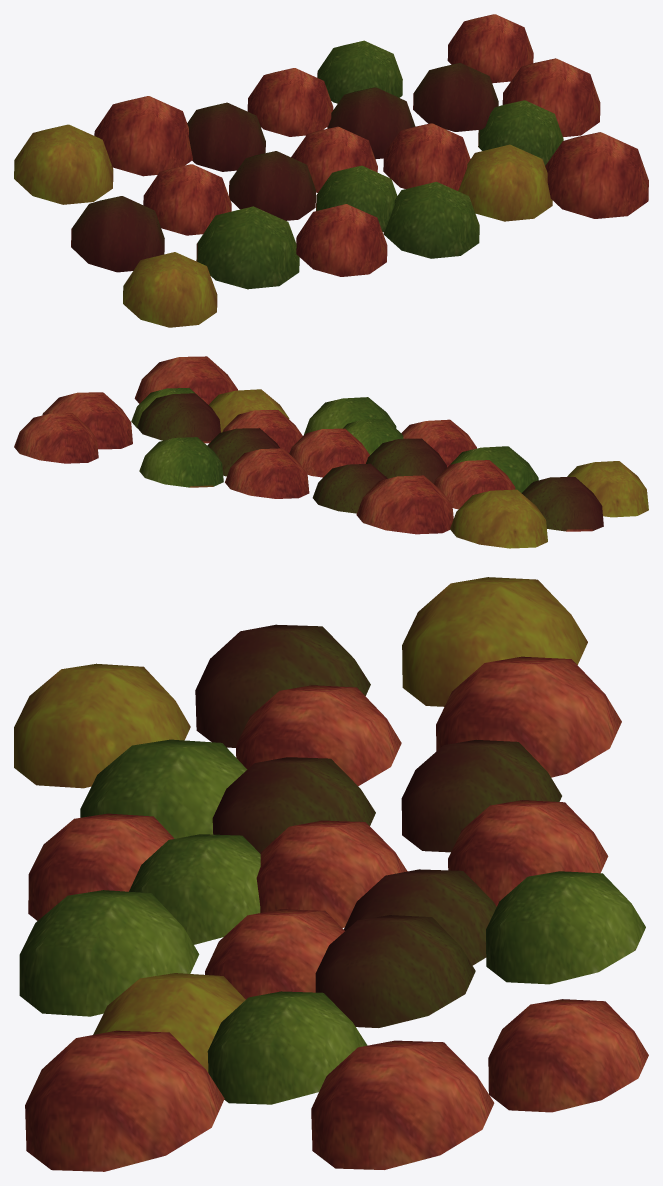
Rendered from fanasty_mod_fruit.fbx.
3 renders of one model, top to bottom at view 1: azimuth 30°, elevation 25°; view 2: azimuth 150°, elevation 25°; view 3: azimuth 270°, elevation 25°, orthographic. The views are drawn at different scales.
Parts seen in each view (by area): view 1: fruit; view 2: fruit; view 3: fruit.
Boxes of the visible parts, x1,y1,x2,y2 form: fruit: (14,14,648,327); fruit: (14,356,648,548); fruit: (14,577,648,1171).
Bounding box in the file's own units: 2.21 × 0.3897 × 1.21.
